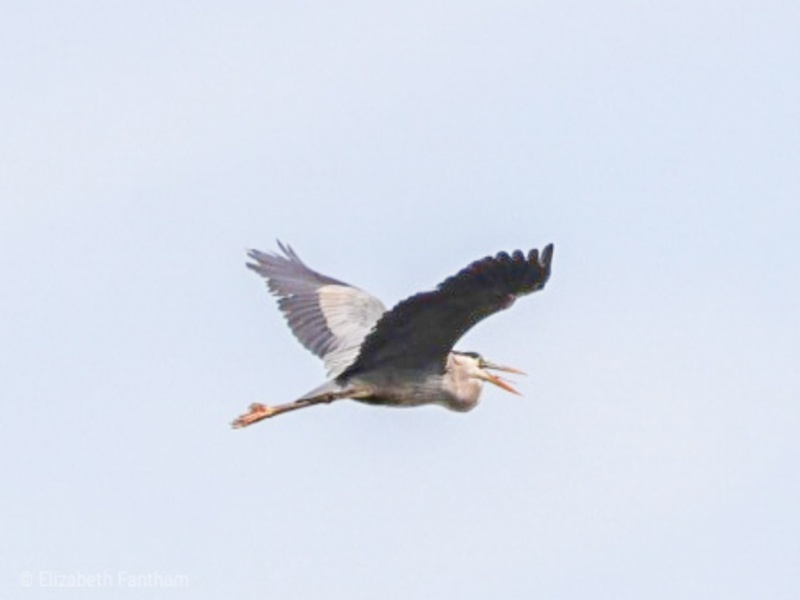heron: (204, 236, 573, 434)
